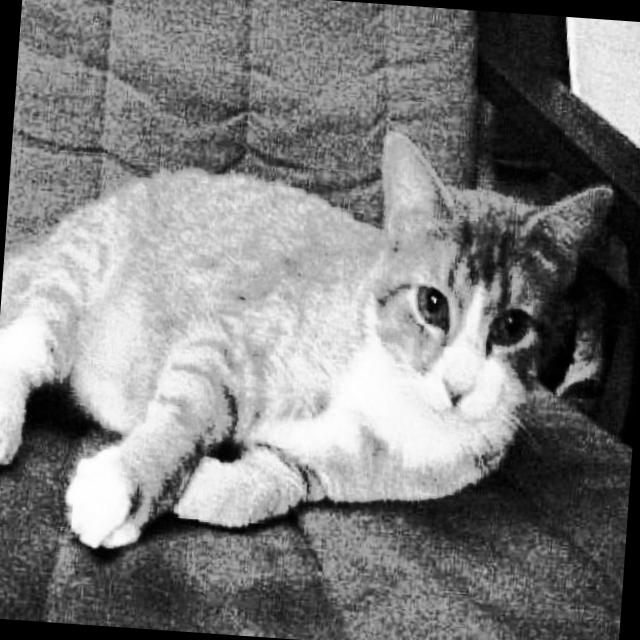Cat: (0, 93, 632, 594)
